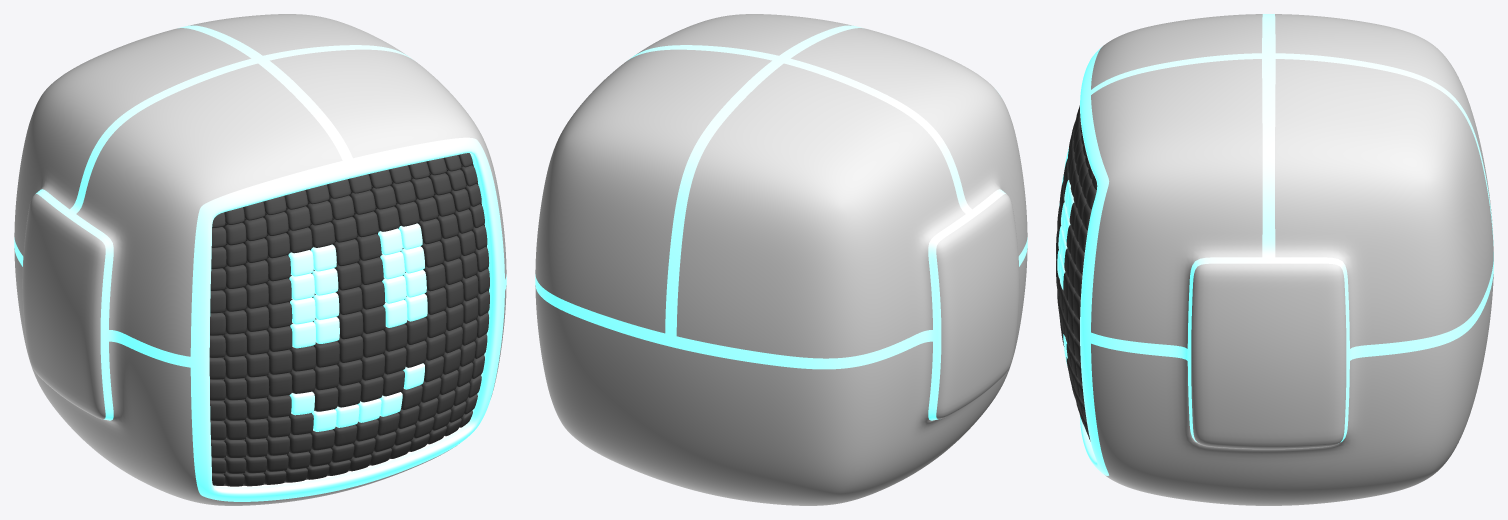
The model's file is Robot.glb.
3 views of the same model, side by side, from view 1: azimuth 30°, elevation 25°; view 2: azimuth 150°, elevation 25°; view 3: azimuth 270°, elevation 25° (orthographic).
Parts seen in each view (by area): view 1: Cube, Cube.001; view 2: Cube; view 3: Cube, Cube.001.
Part boxes in pixels (left/top/right/bottom): Cube: left=14, top=14, right=506, bottom=505; Cube.001: left=209, top=153, right=489, bottom=486; Cube: left=535, top=14, right=1027, bottom=505; Cube: left=1080, top=14, right=1493, bottom=505; Cube.001: left=1056, top=105, right=1097, bottom=441.
Bounding box in the file's own units: 2.44 × 2.24 × 2.18.
